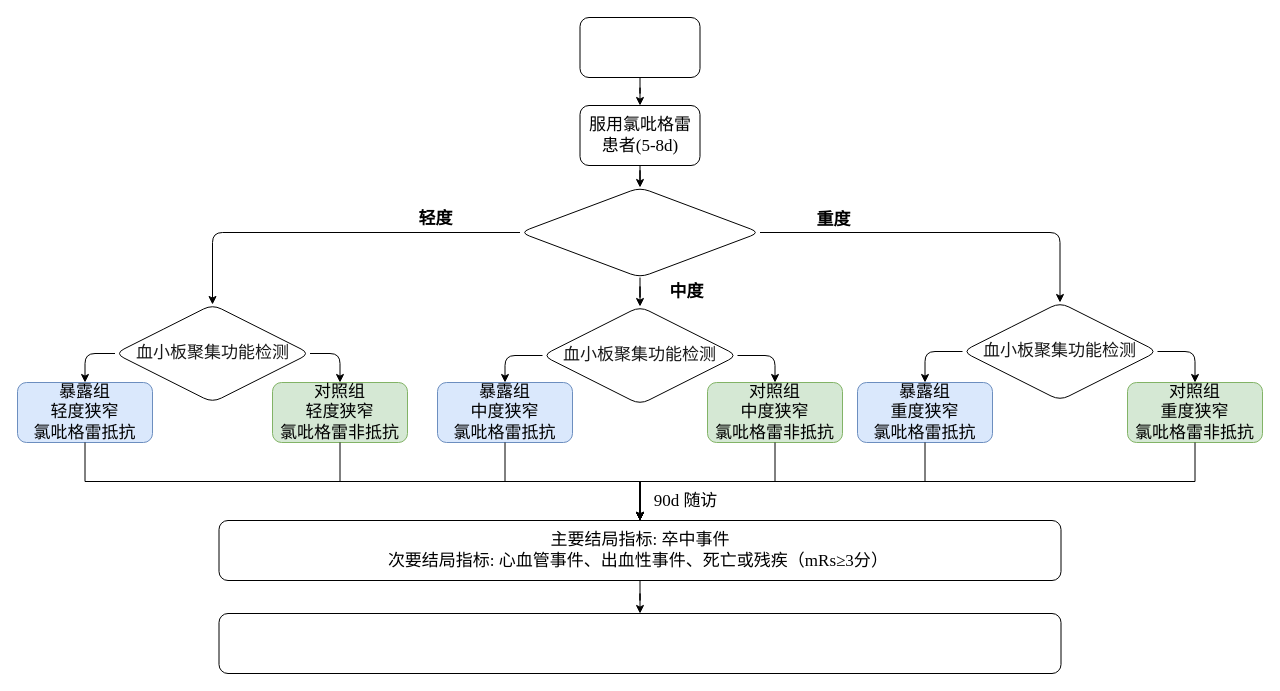
The diagram is 1280 pixels wide and 691 high, and some of its shapes have lost their labels. Here are the shapes that lost their labels. From the top down, the centre of each, then its label:
At point 639,47: "颅内动脉狭窄脑梗死 患者".
At point 639,232: "影像学检查 评估血管狭窄程度 （MRA/CTA/DSA）".
At point 639,643: "采用SPSS27.0进行统计学分析".
